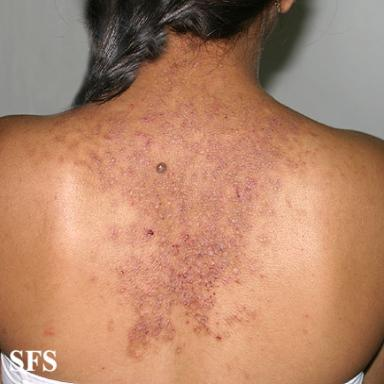Darier_s-Disease: (49, 57, 307, 363)
